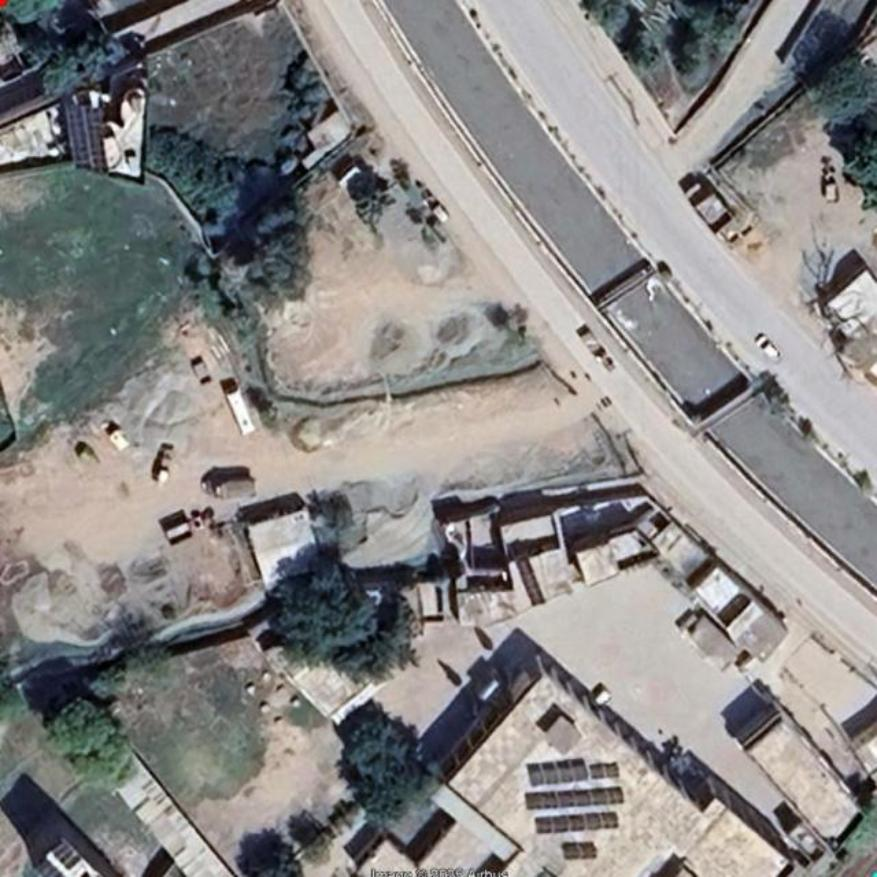Solarpanel: (63, 103, 109, 170), (528, 789, 625, 809), (534, 813, 618, 833), (530, 764, 586, 782), (561, 845, 599, 859), (590, 763, 620, 779)
